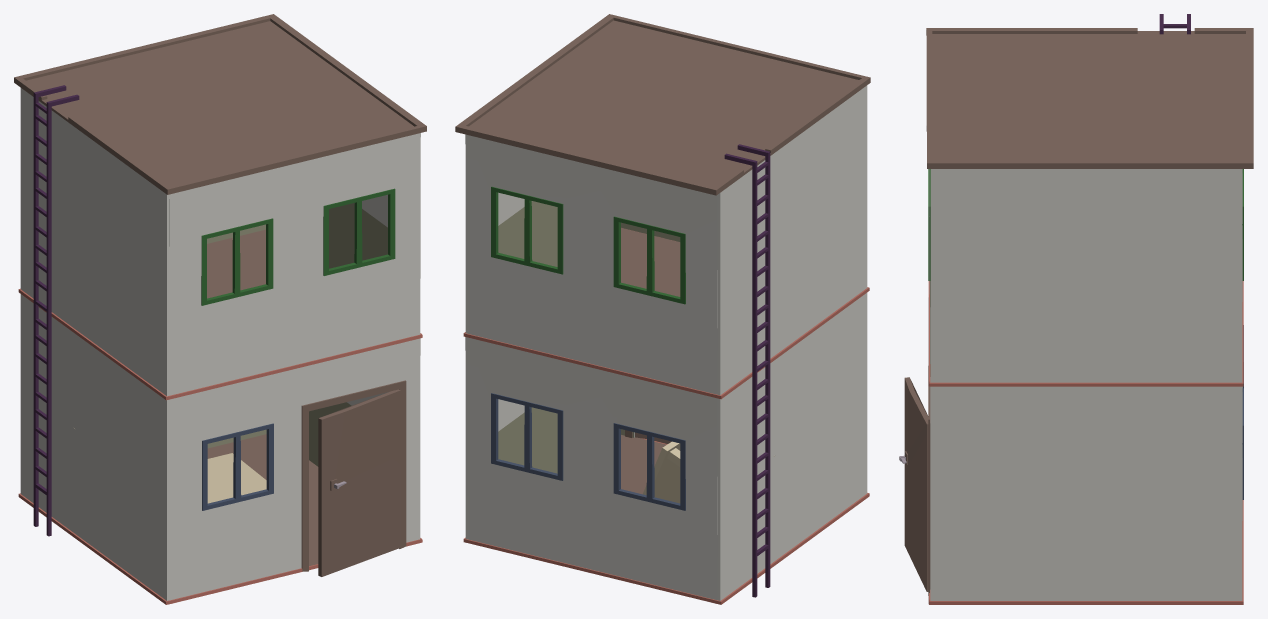
The model's file is Dummy_house_2_2_2_fbx.fbx.
The picture shows the model from 3 angles, left to right: view 1: azimuth 30°, elevation 25°; view 2: azimuth 150°, elevation 25°; view 3: azimuth 270°, elevation 25°; orthographic projection. The views are drawn at different scales.
Visible parts, largest first — view 1: Stage2_Back_Wall1, Rooftop, Stage2_Floor_walls1, Stage1_Floor_walls, Front_wall, Doors, Door_rama, pCube2, pCube1, Back_Window2, Back_Window1, Front_Window (+1 smaller); view 2: Rooftop, Back_Wall, Stage2_Back_Wall, Stage2_Floor_walls1, Stage1_Floor_walls, Back_Window1 (×2), Back_Window2 (×2), pCube1, pCube2, Table1; view 3: Stage1_Floor_walls, Stage2_Floor_walls1, Rooftop, Doors, Door_rama.
Boxes of the visible parts, x1,y1,x2,y2 form: Stage2_Back_Wall1: (169, 133, 420, 395); Rooftop: (14, 14, 426, 194); Stage2_Floor_walls1: (18, 88, 422, 400); Stage1_Floor_walls: (18, 294, 422, 604); Front_wall: (167, 338, 420, 600); Doors: (318, 389, 400, 576); Door_rama: (301, 380, 406, 571); pCube2: (34, 94, 79, 536); pCube1: (33, 85, 66, 526); Back_Window2: (201, 218, 273, 305); Back_Window1: (323, 188, 395, 275); Front_Window: (202, 423, 273, 510); Rooftop: (455, 14, 870, 195); Back_Wall: (465, 337, 717, 599); Stage2_Back_Wall: (465, 134, 717, 394); Stage2_Floor_walls1: (463, 85, 869, 399); Stage1_Floor_walls: (463, 293, 869, 604); Back_Window1 (×2): (491, 186, 563, 480); Back_Window2 (×2): (613, 216, 685, 510); pCube1: (724, 153, 757, 597); pCube2: (737, 144, 770, 587); Table1: (643, 441, 774, 503); Stage1_Floor_walls: (928, 386, 1243, 604); Stage2_Floor_walls1: (928, 169, 1243, 386); Rooftop: (926, 28, 1253, 168); Doors: (904, 377, 928, 591); Door_rama: (928, 366, 930, 595).
Bounding box in the file's own units: 4.25 × 6.52 × 4.54.
